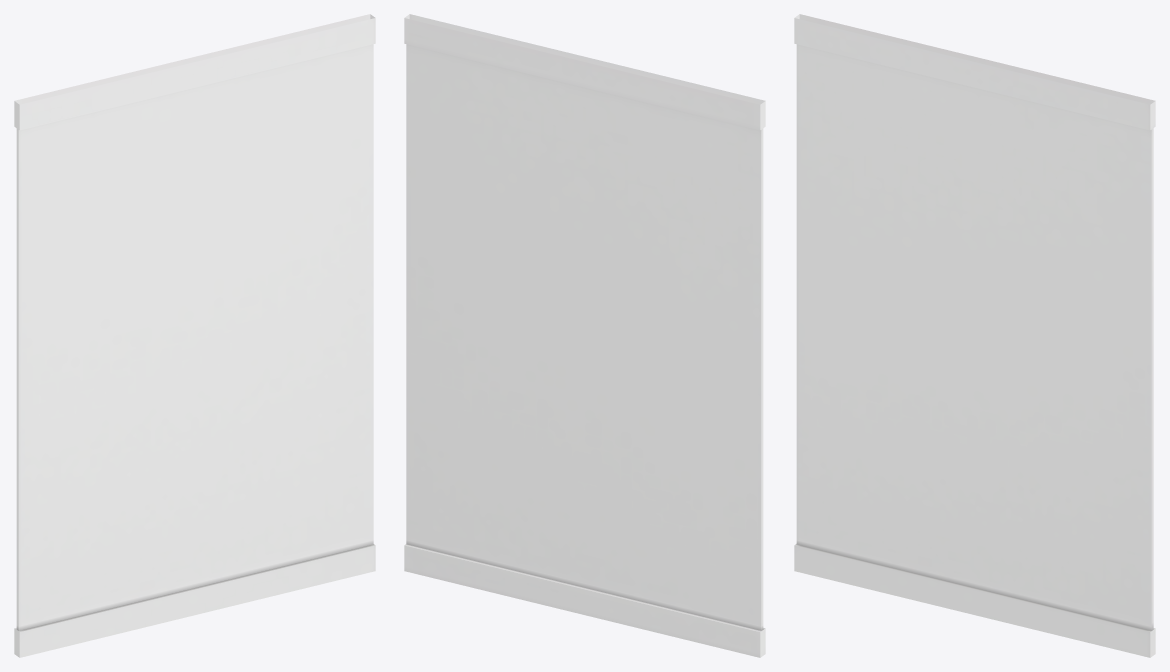
File: Doors_glass.glb
The picture shows the model from 3 angles, left to right: view 1: azimuth 30°, elevation 25°; view 2: azimuth 150°, elevation 25°; view 3: azimuth 330°, elevation 25°; orthographic projection.
Parts seen in each view (by area): view 1: glass, farm; view 2: glass, farm; view 3: glass, farm.
Part boxes in pixels (x1,y1,x2,y2): glass: (16,44,373,630); farm: (14,14,375,657); glass: (406,44,763,630); farm: (404,14,765,657); glass: (796,44,1153,630); farm: (794,14,1155,657).
Bounding box in the file's own units: 2.03 × 3.01 × 0.0533.
Materials: 2 (2 with a texture image).
